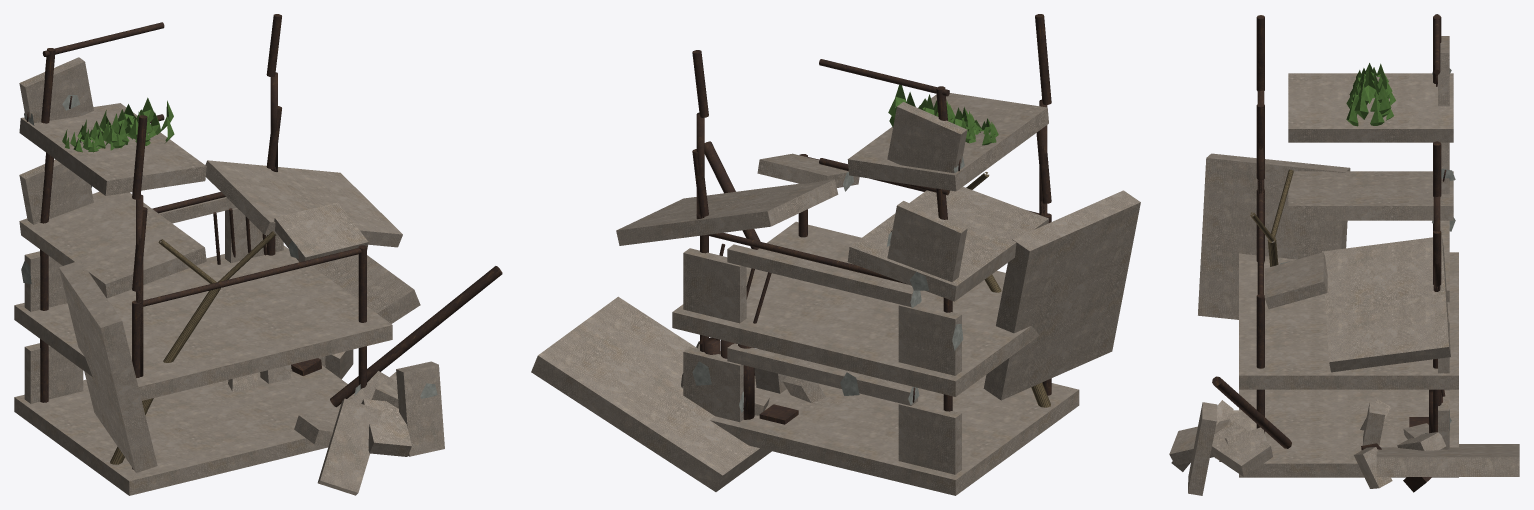
The model's file is f3_native_ruinedBuilding.glb.
3 views of the same model, side by side, from view 1: azimuth 30°, elevation 25°; view 2: azimuth 150°, elevation 25°; view 3: azimuth 270°, elevation 25° (orthographic). The views are drawn at different scales.
Visible parts, largest first — view 1: f3_weathered_concrete_surface, f3_oxidized_iron_surface, f3_native_veined_leaf_surface, f3_native_bark_surface, f3_exposed_aggregate_surface; view 2: f3_weathered_concrete_surface, f3_oxidized_iron_surface, f3_exposed_aggregate_surface, f3_native_veined_leaf_surface; view 3: f3_weathered_concrete_surface, f3_oxidized_iron_surface, f3_native_veined_leaf_surface, f3_native_bark_surface.
Boxes of the visible parts, x1=… form: f3_weathered_concrete_surface: x1=14, y1=57, x2=444, y2=495; f3_oxidized_iron_surface: x1=26, y1=14, x2=502, y2=469; f3_native_veined_leaf_surface: x1=62, y1=97, x2=174, y2=152; f3_native_bark_surface: x1=110, y1=231, x2=275, y2=464; f3_exposed_aggregate_surface: x1=21, y1=95, x2=437, y2=398; f3_weathered_concrete_surface: x1=531, y1=93, x2=1140, y2=495; f3_oxidized_iron_surface: x1=692, y1=14, x2=1051, y2=424; f3_exposed_aggregate_surface: x1=692, y1=157, x2=964, y2=412; f3_native_veined_leaf_surface: x1=888, y1=85, x2=998, y2=145; f3_weathered_concrete_surface: x1=1169, y1=36, x2=1519, y2=495; f3_oxidized_iron_surface: x1=1212, y1=14, x2=1446, y2=492; f3_native_veined_leaf_surface: x1=1346, y1=63, x2=1395, y2=126; f3_native_bark_surface: x1=1250, y1=169, x2=1293, y2=266.
Size of the model in its own units: 6.94 by 6.39 by 5.41.
5 materials, 5 textured.
